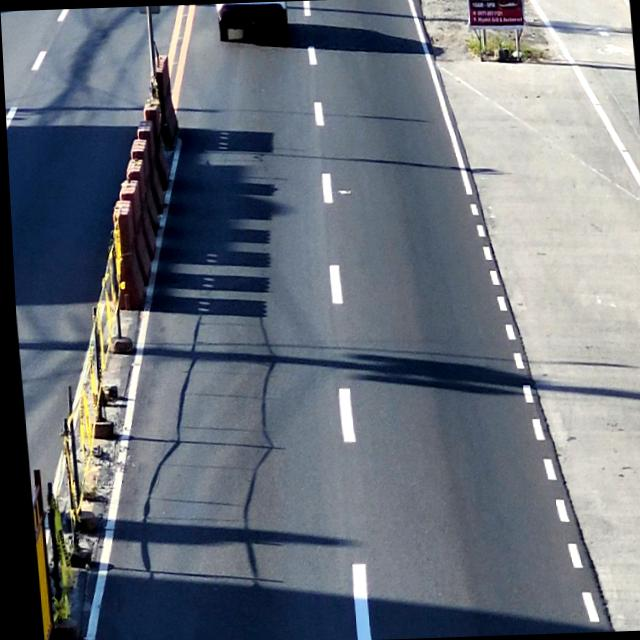Car: (216, 1, 292, 50)
